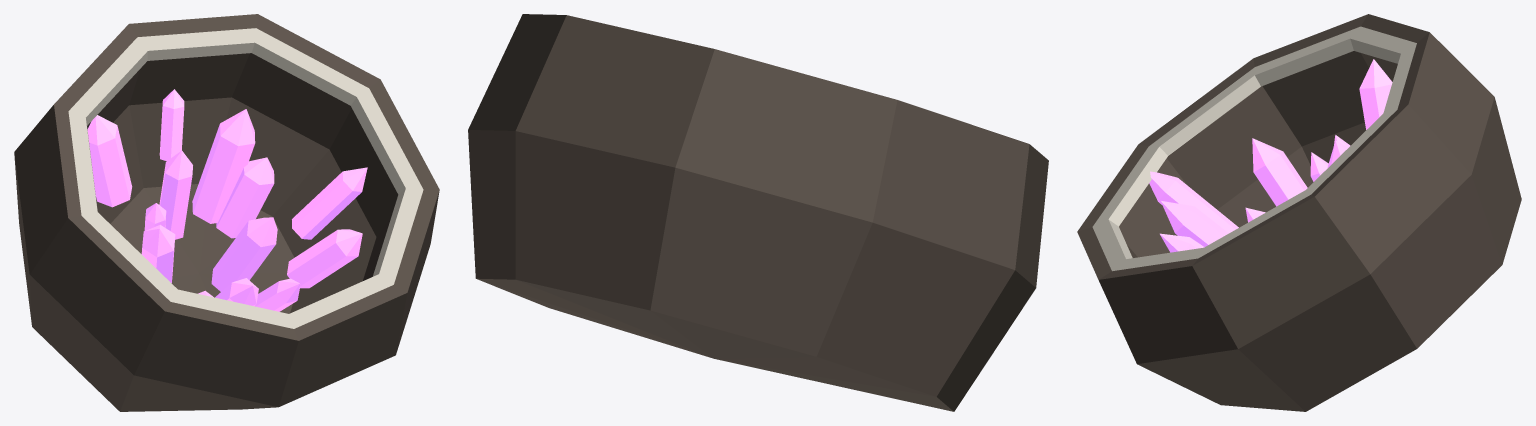
File: mine_geode.glb
The picture shows the model from 3 angles, left to right: view 1: azimuth 30°, elevation 25°; view 2: azimuth 150°, elevation 25°; view 3: azimuth 270°, elevation 25°; orthographic projection. The views are drawn at different scales.
Visible parts, largest first — view 1: mine_geode; view 2: mine_geode; view 3: mine_geode.
Part boxes in pixels (<box>): mine_geode: <box>14,14,439,411</box>; mine_geode: <box>468,14,1048,411</box>; mine_geode: <box>1077,14,1521,411</box>.
Size of what is drawn, in the model's own units: 1.84 by 1.46 by 1.85.
